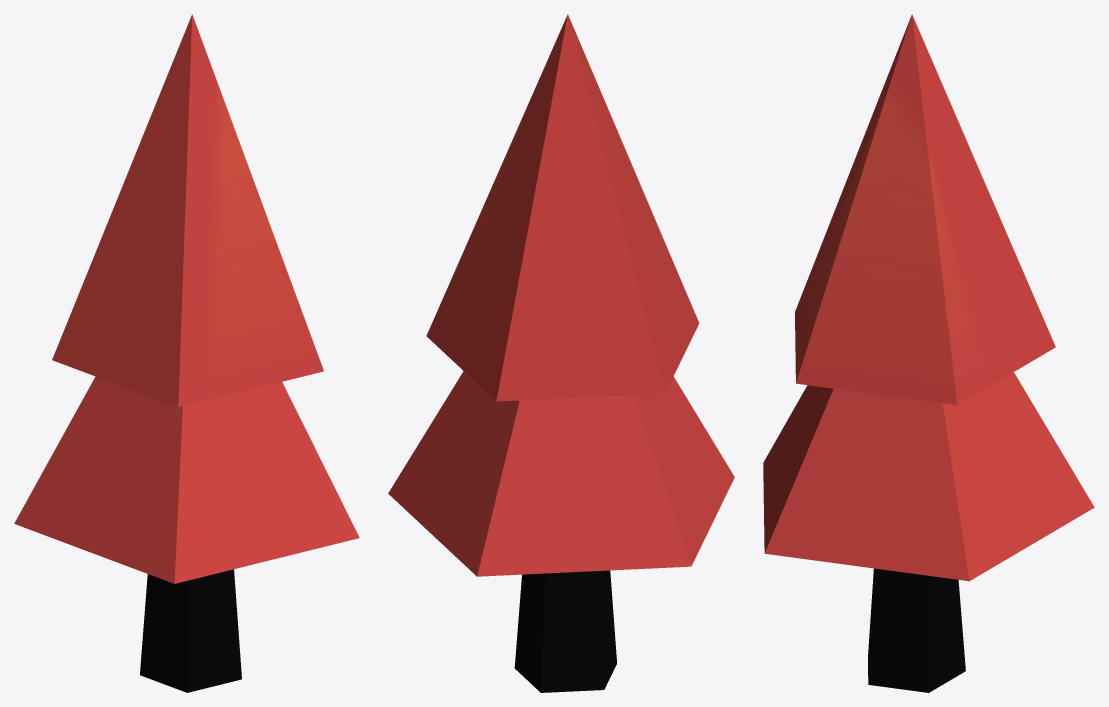
Rendered from pine_tree.glb.
The picture shows the model from 3 angles, left to right: view 1: azimuth 30°, elevation 25°; view 2: azimuth 150°, elevation 25°; view 3: azimuth 270°, elevation 25°; orthographic projection.
Parts seen in each view (by area): view 1: tree_single_A; view 2: tree_single_A; view 3: tree_single_A.
Boxes of the visible parts, x1,y1,x2,y2 form: tree_single_A: [14, 14, 359, 692]; tree_single_A: [388, 14, 734, 692]; tree_single_A: [763, 14, 1094, 692].
Bounding box in the file's own units: 0.574 × 1.2 × 0.547.
Materials: 1 (1 with a texture image).
